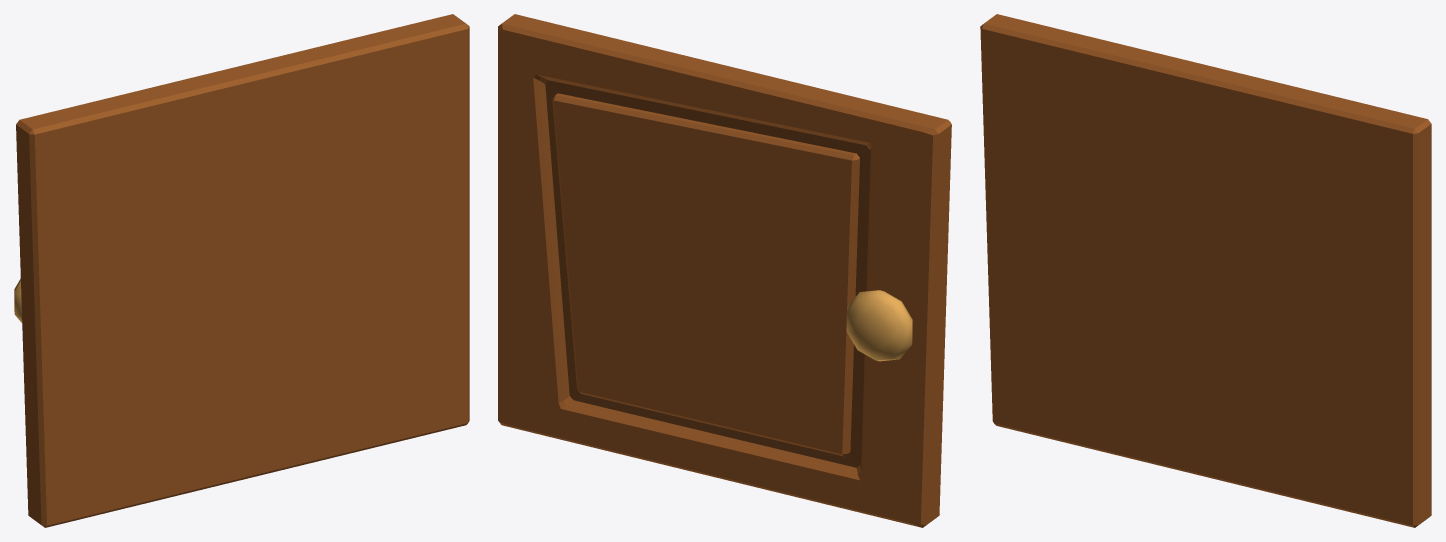
Rendered from Teacher_desk_2.fbx.
The picture shows the model from 3 angles, left to right: view 1: azimuth 30°, elevation 25°; view 2: azimuth 150°, elevation 25°; view 3: azimuth 330°, elevation 25°; orthographic projection.
Parts seen in each view (by area): view 1: Teacher_desk_2; view 2: Teacher_desk_2; view 3: Teacher_desk_2.
Part boxes in pixels (<box>): Teacher_desk_2: <box>14,14,469,527</box>; Teacher_desk_2: <box>498,14,951,527</box>; Teacher_desk_2: <box>980,14,1431,527</box>.
Bounding box in the file's own units: 0.5252 × 0.4573 × 0.0804.
